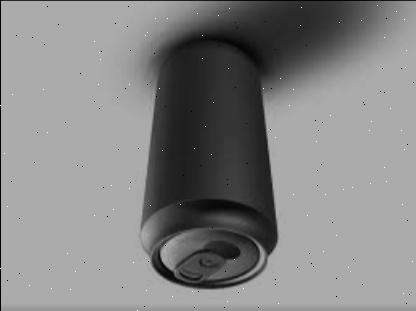Can: (141, 41, 279, 293)
